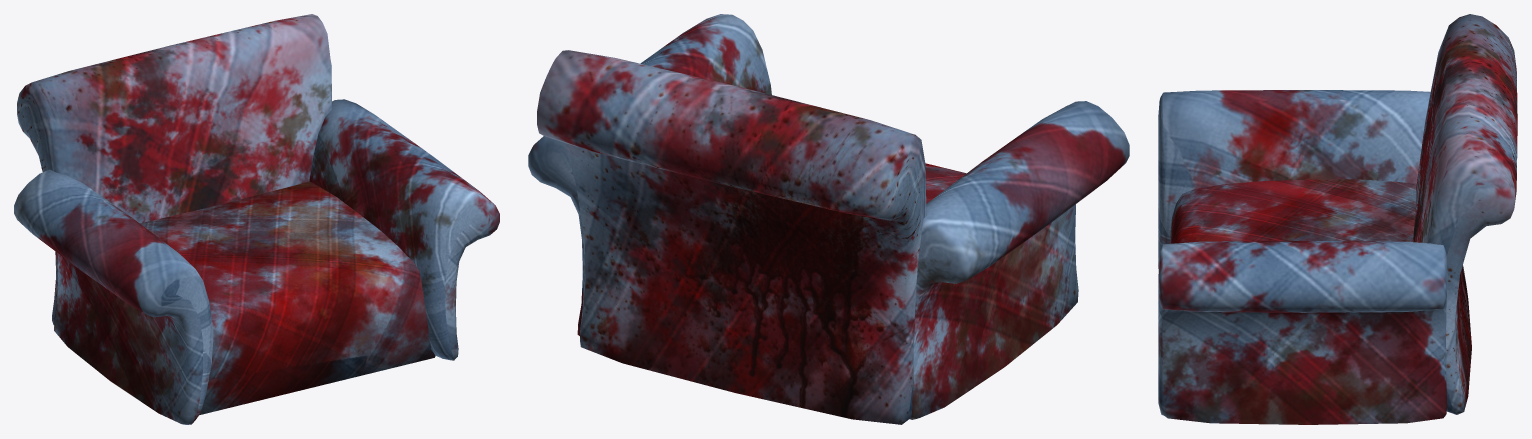
Rendered from SofaChair.FBX.
The picture shows the model from 3 angles, left to right: view 1: azimuth 30°, elevation 25°; view 2: azimuth 150°, elevation 25°; view 3: azimuth 270°, elevation 25°; orthographic projection. The views are drawn at different scales.
Parts seen in each view (by area): view 1: default003; view 2: default003; view 3: default003.
Boxes of the visible parts, x1,y1,x2,y2 form: default003: (14, 14, 499, 424); default003: (528, 14, 1129, 424); default003: (1158, 14, 1517, 424).
Bounding box in the file's own units: 61.31 × 39.62 × 48.99.
1 material, 1 textured.
